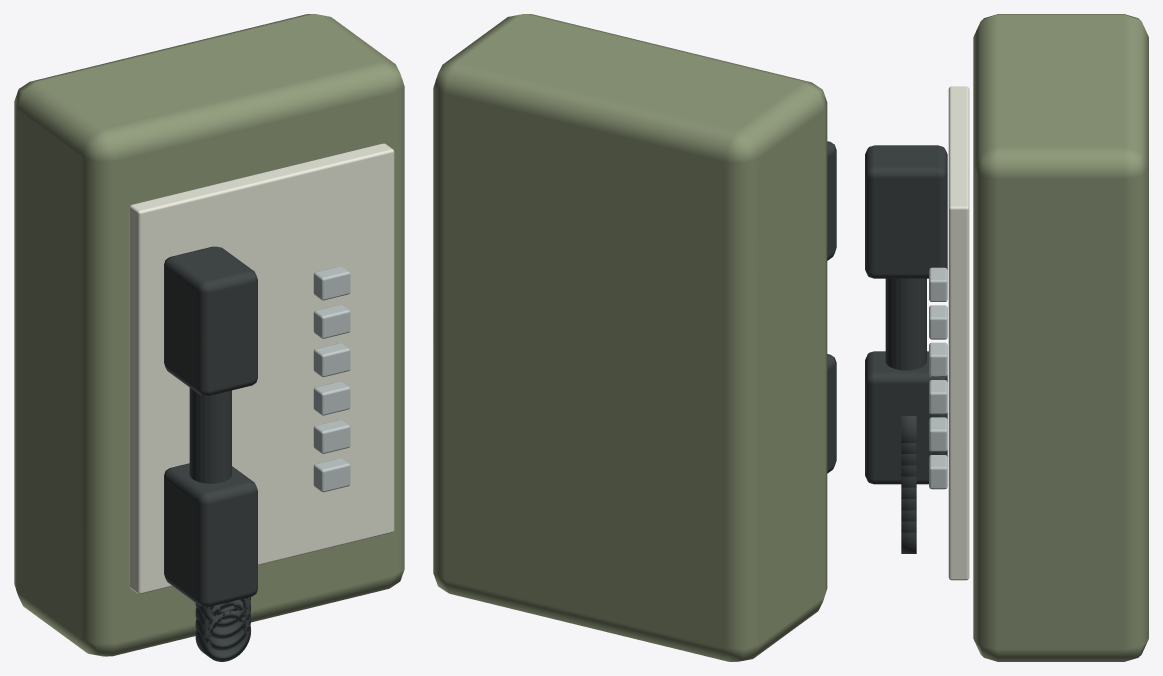
File: mountain-border-checkpoint-mountain-border-checkpoint--16947839__30329.glb
3 renders of one model, left to right at view 1: azimuth 30°, elevation 25°; view 2: azimuth 150°, elevation 25°; view 3: azimuth 270°, elevation 25°, orthographic. The views are drawn at different scales.
Parts seen in each view (by area): view 1: mountain-border-checkpoint-emergency-telephone; view 2: mountain-border-checkpoint-emergency-telephone; view 3: mountain-border-checkpoint-emergency-telephone.
Part boxes in pixels (x1,y1,x2,y2): mountain-border-checkpoint-emergency-telephone: (14, 14, 404, 661); mountain-border-checkpoint-emergency-telephone: (433, 14, 836, 661); mountain-border-checkpoint-emergency-telephone: (865, 14, 1148, 661).
Bounding box in the file's own units: 0.35 × 0.55 × 0.275.
